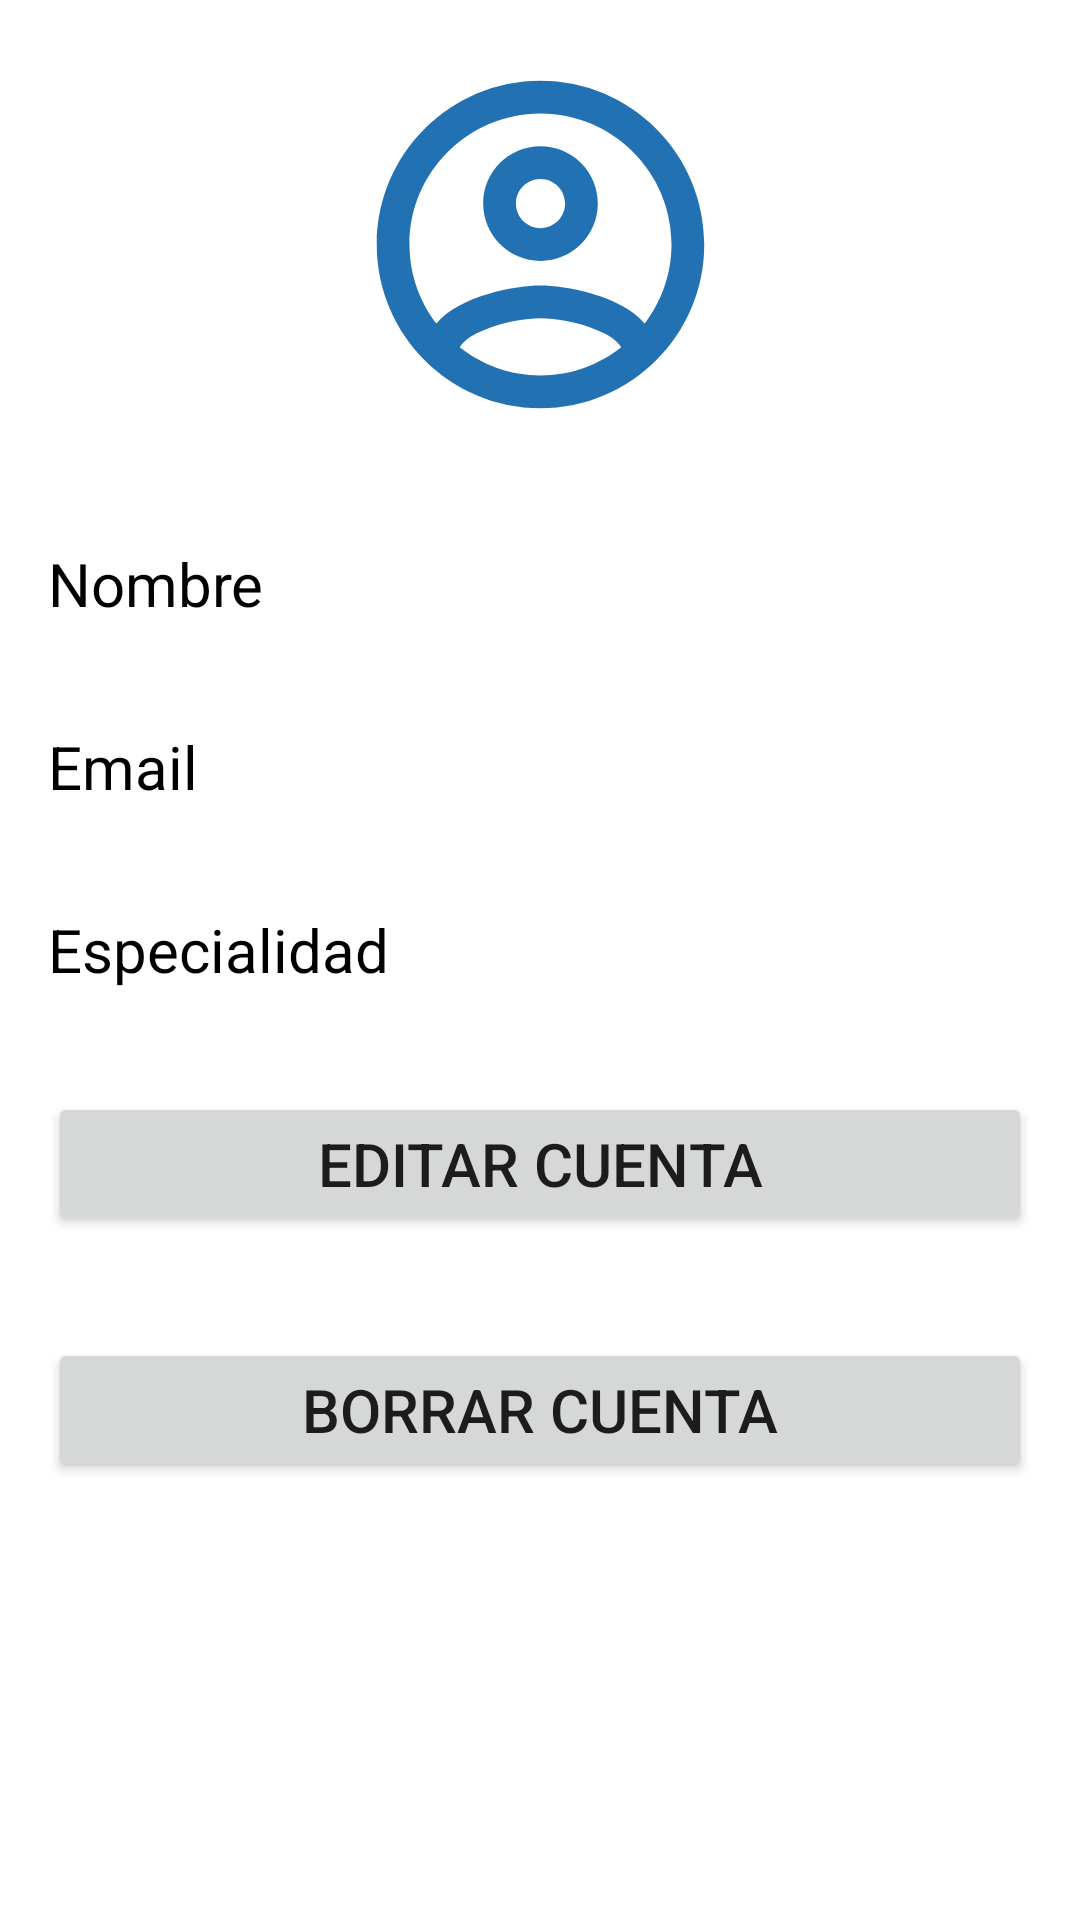

Named icons in this screenshot (1080 x 1920) and their bounding boxes, (x1, y1, x2, y2):
account circle: (376, 80, 705, 409)
